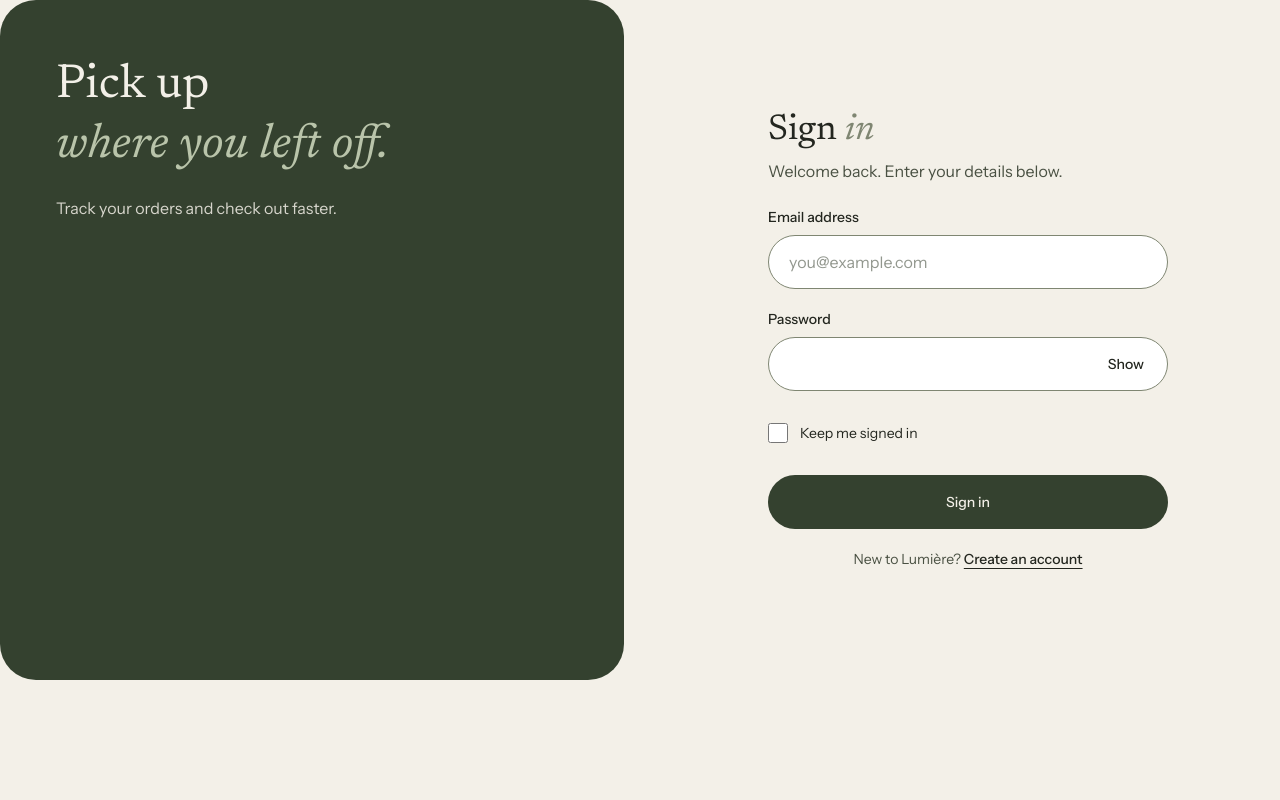
it: LoginPage › shows the too-many-attempts message
The image size is (1280, 800).
Type "anna@example.com" into the field labelled "Email address". click: (968, 262)
box: [768,235,1168,289]
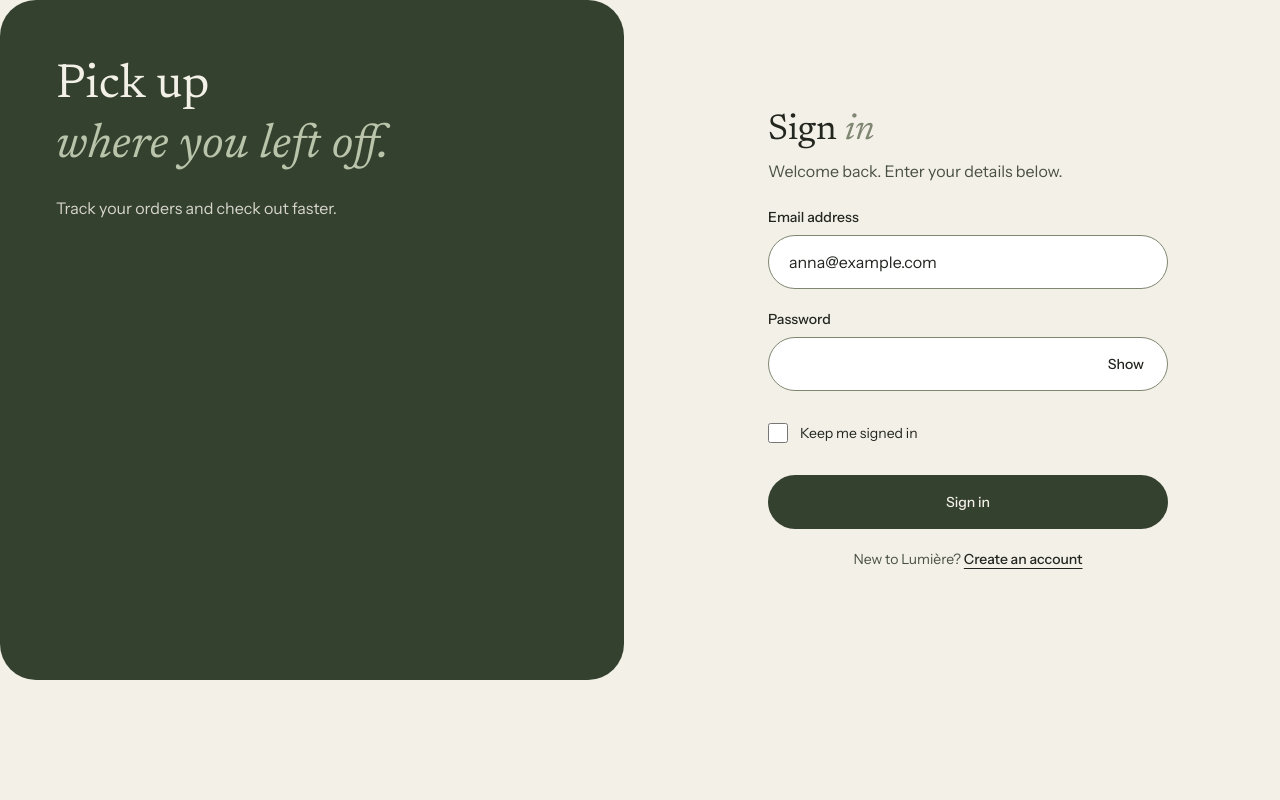
Type "password123" into the password field labelled "Password". click: (968, 364)
box: [768,337,1168,391]
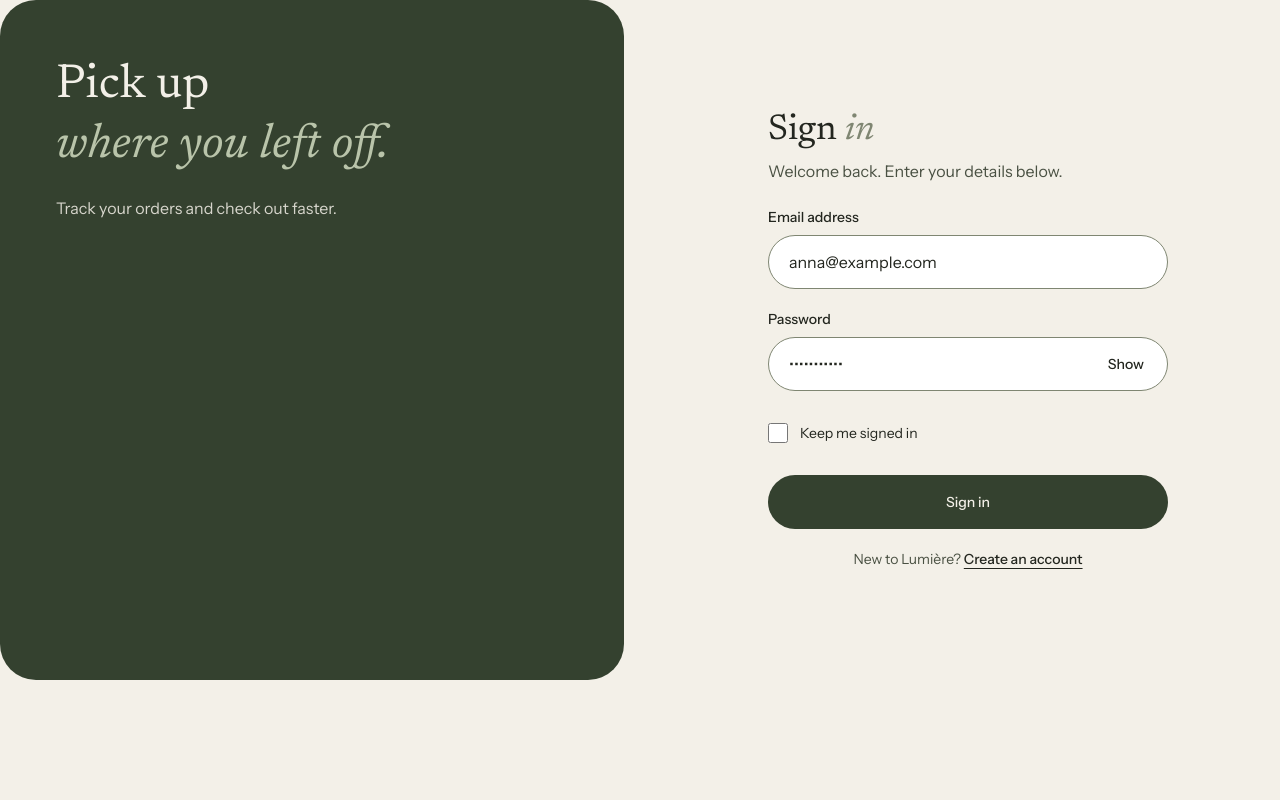
Click the button "Sign in". click: click(968, 502)
box: [768,475,1168,529]
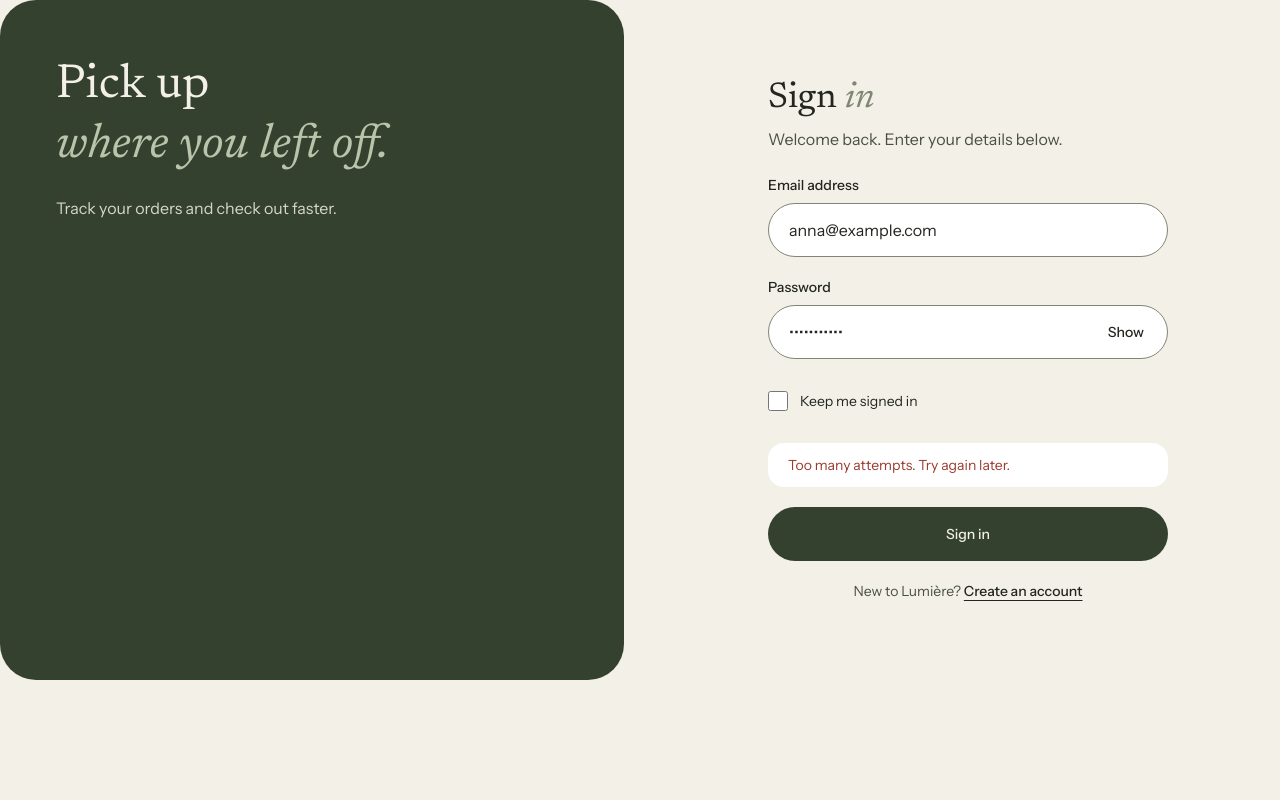
Now the message reads "Too many attempts. Try again later.", box [788,456,1010,474]
